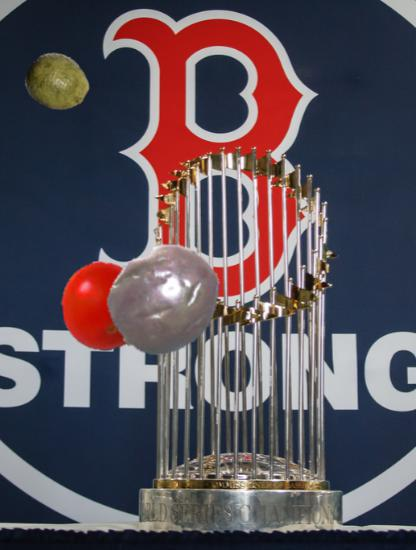Guava: (27, 51, 90, 114)
Passion: (106, 239, 226, 359)
Tomato: (56, 261, 147, 352)
